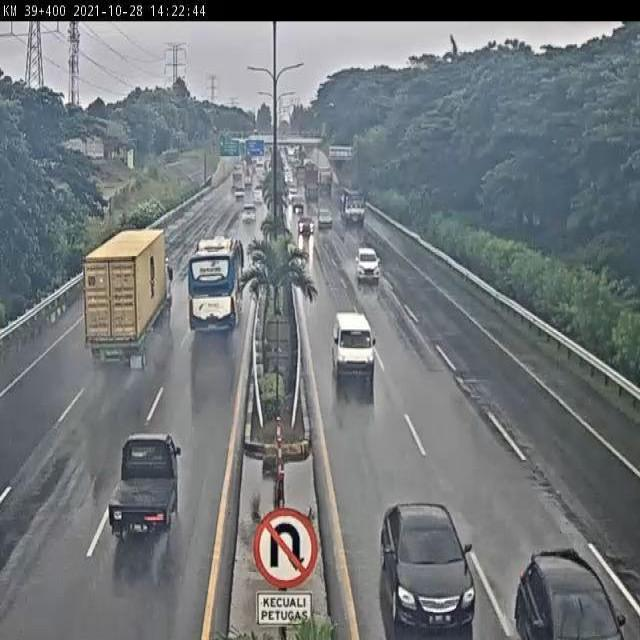big bus: (181, 226, 254, 350)
big truck: (67, 229, 178, 379), (337, 188, 366, 227)
car: (373, 496, 478, 636), (97, 424, 186, 548), (523, 518, 611, 640), (326, 304, 377, 387), (350, 243, 387, 288), (238, 205, 255, 231), (297, 210, 313, 234), (317, 206, 333, 226), (251, 188, 267, 207), (289, 192, 304, 212)
